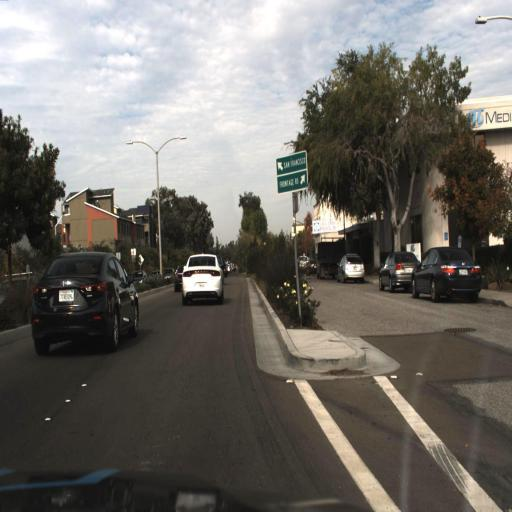car: (20, 244, 142, 370), (406, 234, 484, 315), (175, 240, 229, 315), (373, 242, 421, 299), (333, 246, 371, 288), (317, 237, 340, 286), (170, 260, 188, 300), (170, 251, 184, 299)
truck: (316, 238, 345, 279)
